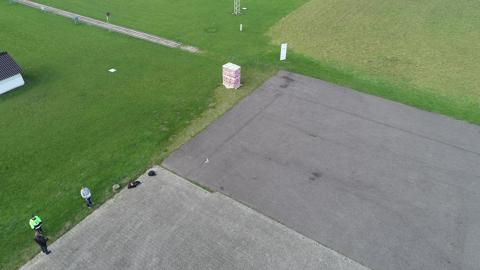RockwoolPallet: (222, 62, 242, 89)
